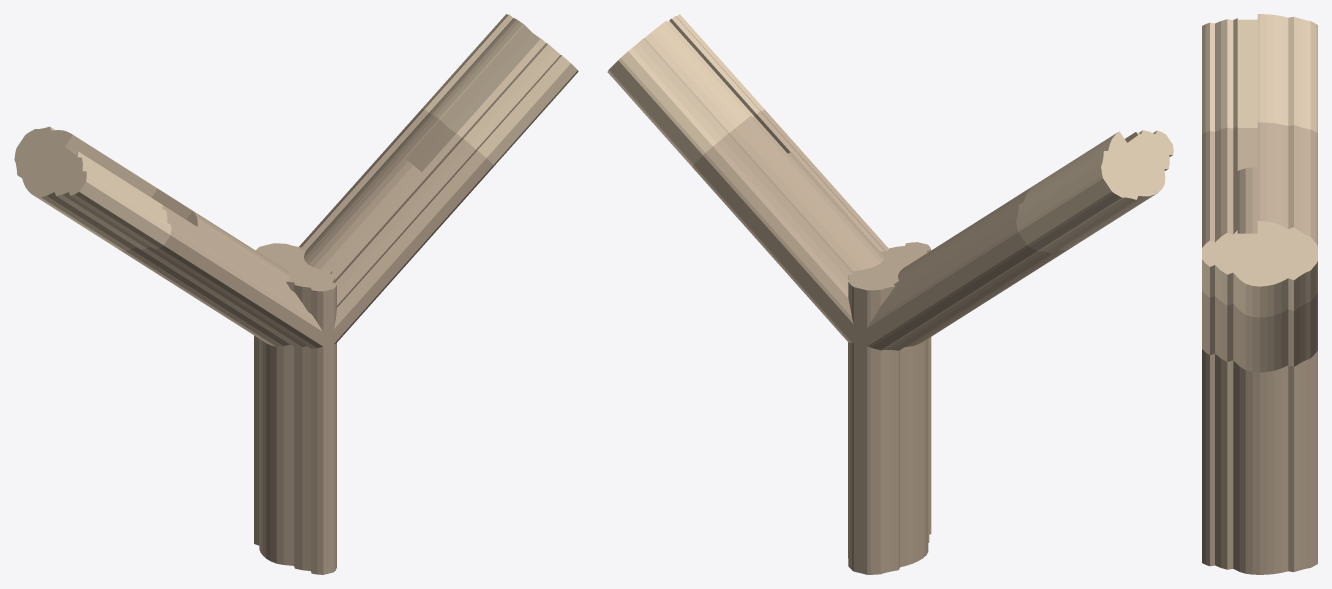
Rendered from R42_BRANCHING_JOINT_AND_REBATES.glb.
The picture shows the model from 3 angles, left to right: view 1: azimuth 30°, elevation 25°; view 2: azimuth 150°, elevation 25°; view 3: azimuth 270°, elevation 25°; orthographic projection. The views are drawn at different scales.
Visible parts, largest first — view 1: R42_Y_junction_ashlar, R42_extension_stone_2, R42_extension_stone_1; view 2: R42_Y_junction_ashlar, R42_extension_stone_2, R42_extension_stone_1; view 3: R42_Y_junction_ashlar, R42_extension_stone_1, R42_extension_stone_2.
Part boxes in pixels (x1=…): R42_Y_junction_ashlar: x1=117, y1=109, x2=493, y2=574; R42_extension_stone_2: x1=422, y1=14, x2=578, y2=165; R42_extension_stone_1: x1=14, y1=126, x2=171, y2=250; R42_Y_junction_ashlar: x1=692, y1=109, x2=1071, y2=574; R42_extension_stone_2: x1=607, y1=14, x2=764, y2=166; R42_extension_stone_1: x1=1016, y1=130, x2=1173, y2=253; R42_Y_junction_ashlar: x1=1202, y1=122, x2=1317, y2=574; R42_extension_stone_1: x1=1202, y1=14, x2=1317, y2=133; R42_extension_stone_2: x1=1202, y1=221, x2=1317, y2=317.
Size of the model in its own units: 0.7958 by 0.6745 by 0.16.
